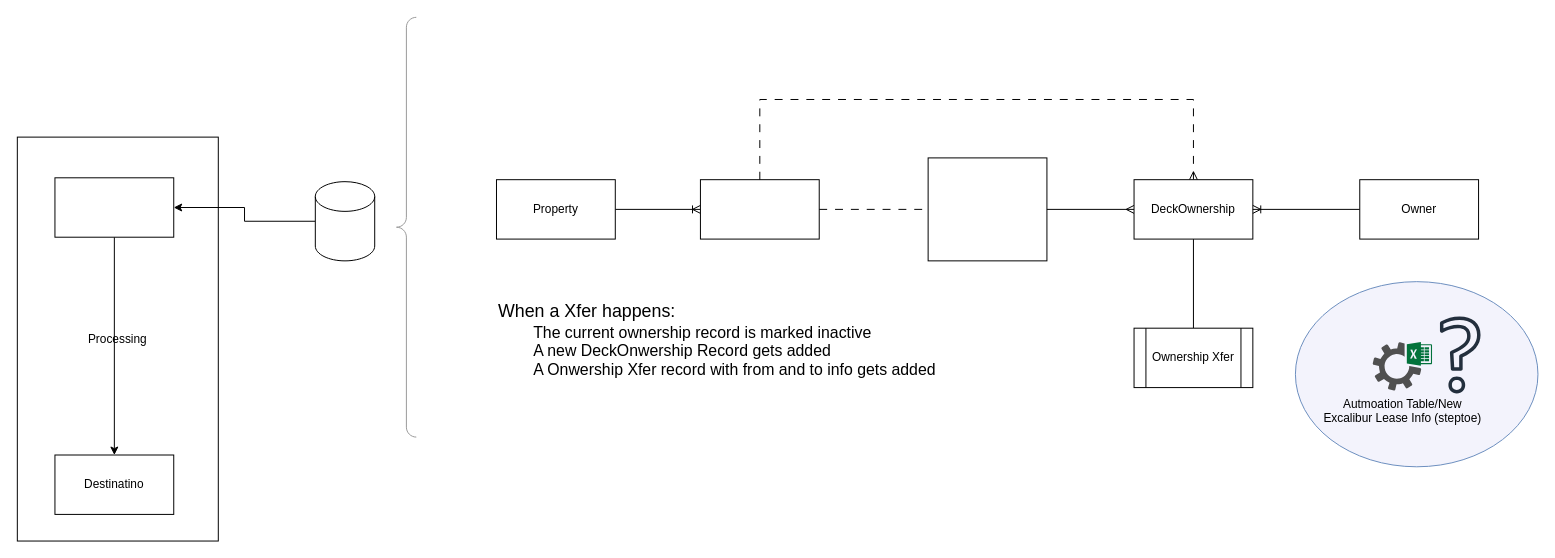
Image size: 1555x558. Some labels were removed from this diagram. Each missing label, with the box of its shape:
Deck: (927, 157, 1047, 261)
DeckProp: (699, 179, 819, 239)
View/Query/#Tbl: (54, 177, 174, 237)
